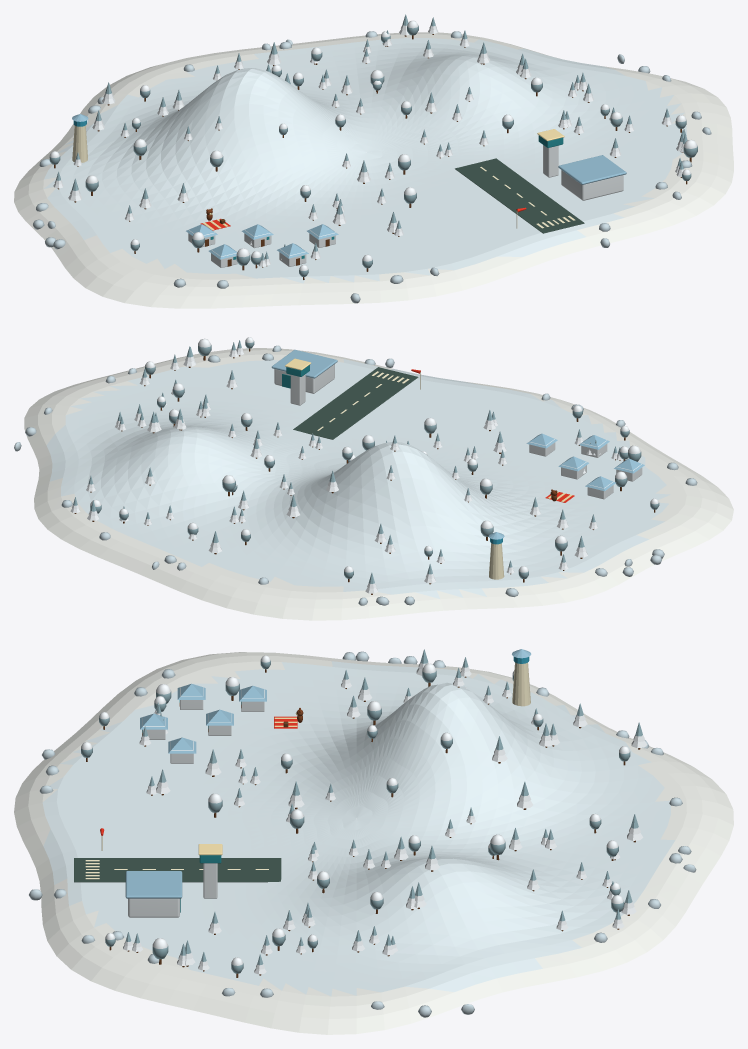
Rendered from snowy-island.glb.
3 views of the same model, one above another, from view 1: azimuth 30°, elevation 25°; view 2: azimuth 150°, elevation 25°; view 3: azimuth 270°, elevation 25° (orthographic). The views are drawn at different scales.
Parts seen in each view (by area): view 1: Peach sand, Leaf 0, Runway, Leaf 1, Leaf 2, Terracotta roofs, Buttercream walls, Warm rock, Chalk, Cinnamon wood; view 2: Peach sand, Leaf 0, Runway, Leaf 1, Leaf 2, Terracotta roofs, Buttercream walls, Warm rock, Chalk; view 3: Peach sand, Leaf 0, Leaf 1, Leaf 2, Runway, Terracotta roofs, Buttercream walls, Warm rock, Chalk.
Part boxes in pixels (bbox=[...]): Peach sand: bbox=[14, 32, 733, 308]; Leaf 0: bbox=[49, 20, 697, 276]; Runway: bbox=[455, 158, 584, 233]; Leaf 1: bbox=[53, 14, 687, 245]; Leaf 2: bbox=[92, 17, 687, 266]; Terracotta roofs: bbox=[72, 114, 626, 259]; Buttercream walls: bbox=[188, 145, 623, 267]; Warm rock: bbox=[33, 31, 711, 303]; Chalk: bbox=[72, 125, 575, 228]; Cinnamon wood: bbox=[54, 34, 691, 279]; Peach sand: bbox=[24, 348, 733, 620]; Leaf 0: bbox=[90, 337, 659, 578]; Runway: bbox=[293, 367, 418, 439]; Leaf 1: bbox=[86, 340, 597, 573]; Leaf 2: bbox=[70, 342, 622, 593]; Terracotta roofs: bbox=[271, 349, 644, 539]; Buttercream walls: bbox=[274, 364, 642, 499]; Warm rock: bbox=[14, 345, 697, 605]; Chalk: bbox=[317, 371, 504, 579]; Peach sand: bbox=[14, 652, 733, 1034]; Leaf 0: bbox=[81, 655, 630, 973]; Leaf 1: bbox=[123, 649, 643, 970]; Leaf 2: bbox=[132, 667, 647, 974]; Runway: bbox=[74, 858, 281, 882]; Terracotta roofs: bbox=[125, 649, 531, 898]; Buttercream walls: bbox=[128, 687, 264, 917]; Warm rock: bbox=[29, 651, 696, 1017]; Chalk: bbox=[85, 662, 530, 879].
Size of the model in its own units: 192 by 29.64 by 153.
